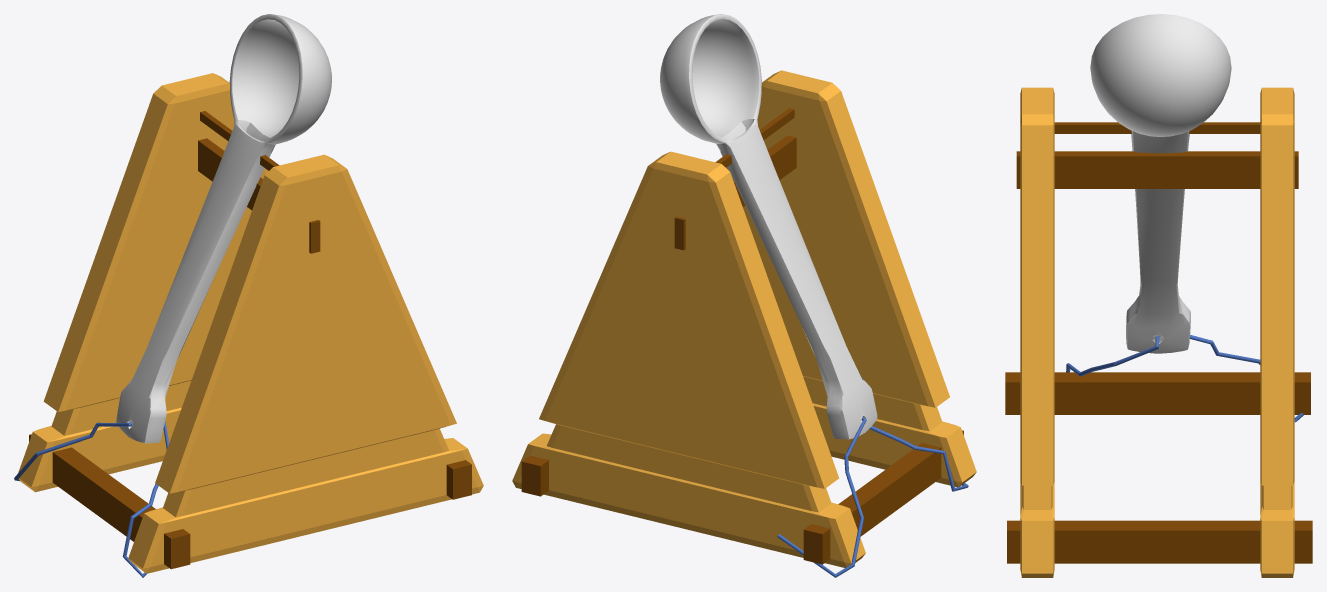
File: pao.fbx
3 views of the same model, side by side, from view 1: azimuth 30°, elevation 25°; view 2: azimuth 150°, elevation 25°; view 3: azimuth 270°, elevation 25° (orthographic). The views are drawn at different scales.
Visible parts, largest first — view 1: 立方体.011, 球体.001, 立方体.014, 立方体.012, 平面.001, 立方体.013, 立方体.015; view 2: 立方体.011, 球体.001, 立方体.014, 平面.001, 立方体.012, 立方体.013, 立方体.015; view 3: 立方体.011, 球体.001, 立方体.013, 立方体.014, 立方体.012, 立方体.015, 平面.001.
Boxes of the visible parts, bbox=[...] form: 立方体.011: bbox=[18, 73, 483, 573]; 球体.001: bbox=[116, 14, 331, 443]; 立方体.014: bbox=[29, 434, 190, 569]; 立方体.012: bbox=[198, 138, 320, 253]; 平面.001: bbox=[14, 421, 168, 577]; 立方体.013: bbox=[446, 460, 471, 499]; 立方体.015: bbox=[200, 111, 279, 170]; 立方体.011: bbox=[512, 70, 976, 567]; 球体.001: bbox=[660, 14, 877, 439]; 立方体.014: bbox=[803, 430, 963, 564]; 平面.001: bbox=[777, 416, 968, 577]; 立方体.012: bbox=[674, 135, 796, 250]; 立方体.013: bbox=[521, 455, 548, 496]; 立方体.015: bbox=[715, 108, 794, 167]; 立方体.011: bbox=[1020, 87, 1294, 577]; 球体.001: bbox=[1090, 14, 1231, 353]; 立方体.013: bbox=[1007, 520, 1312, 563]; 立方体.014: bbox=[1005, 372, 1310, 414]; 立方体.012: bbox=[1016, 151, 1298, 188]; 立方体.015: bbox=[1054, 122, 1260, 133]; 平面.001: bbox=[1066, 334, 1303, 422].
Size of the model in its own units: 199 by 258 by 143.
